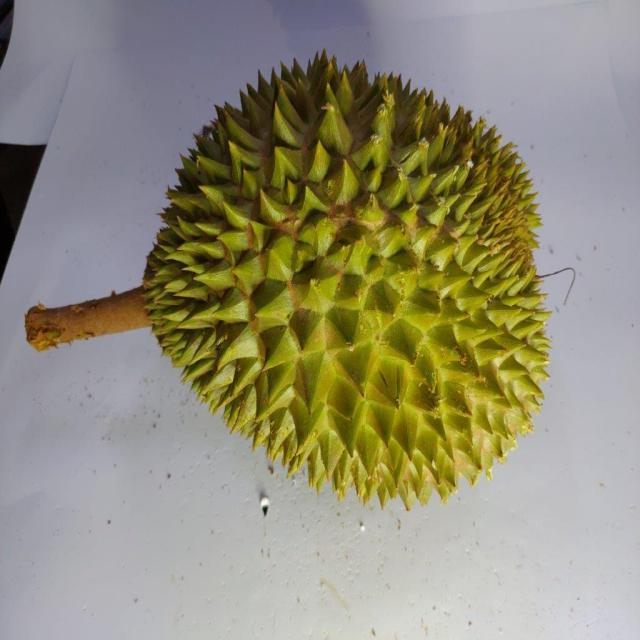immature: (144, 44, 555, 514)
